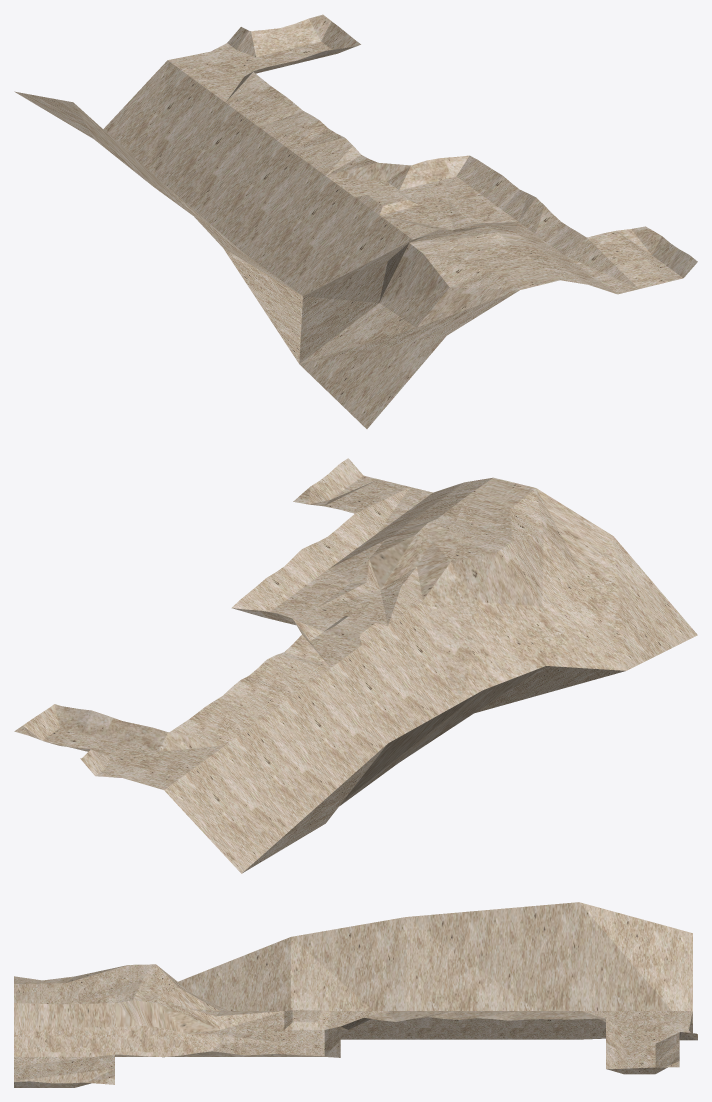
File: sbseabed_sfe01.obj
3 views of the same model, one above another, from view 1: azimuth 30°, elevation 25°; view 2: azimuth 150°, elevation 25°; view 3: azimuth 270°, elevation 25° (orthographic). The views are drawn at different scales.
Visible parts, largest first — view 1: sbseabed_sfe01; view 2: sbseabed_sfe01; view 3: sbseabed_sfe01.
Part boxes in pixels (x1=…): sbseabed_sfe01: x1=14, y1=14, x2=697, y2=428; sbseabed_sfe01: x1=14, y1=458, x2=697, y2=873; sbseabed_sfe01: x1=14, y1=902, x2=697, y2=1087.
Size of the model in its own units: 268 by 86.83 by 498.
